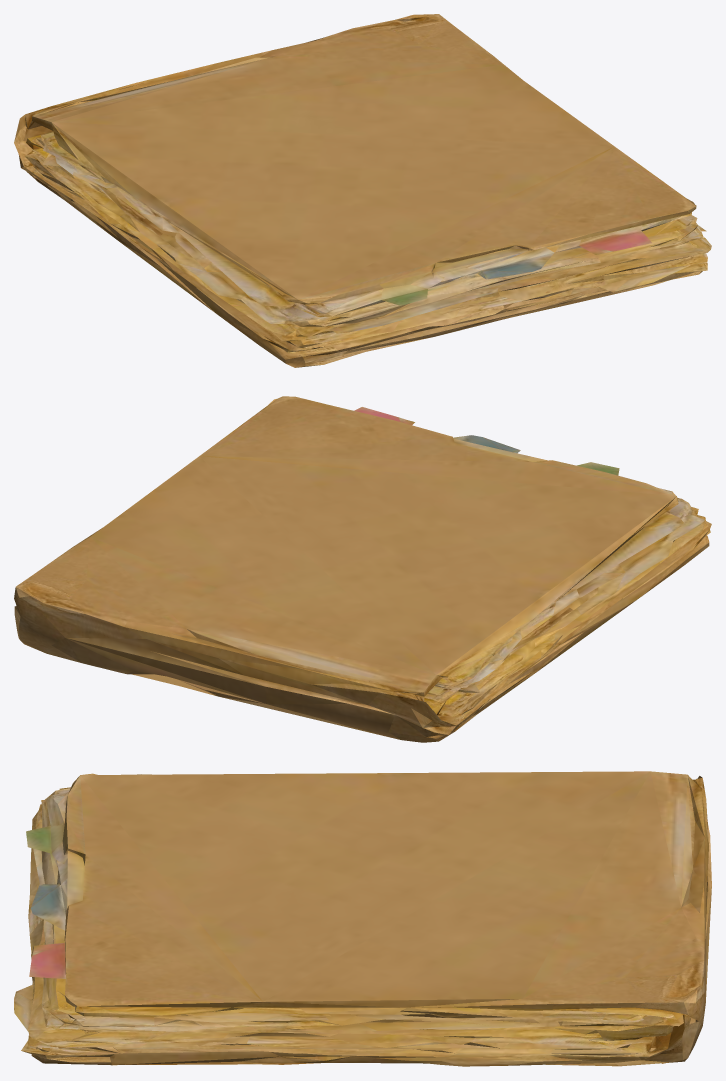
Rendered from w4folder.glb.
3 views of the same model, one above another, from view 1: azimuth 30°, elevation 25°; view 2: azimuth 150°, elevation 25°; view 3: azimuth 270°, elevation 25° (orthographic). The views are drawn at different scales.
Parts seen in each view (by area): view 1: output_unwrapped; view 2: output_unwrapped; view 3: output_unwrapped.
Boxes of the visible parts, x1,y1,x2,y2 form: output_unwrapped: [14, 14, 711, 367]; output_unwrapped: [14, 396, 711, 742]; output_unwrapped: [14, 771, 711, 1066].
Size of the model in its own units: 0.32 by 0.0387 by 0.3723.
1 material, 1 textured.
